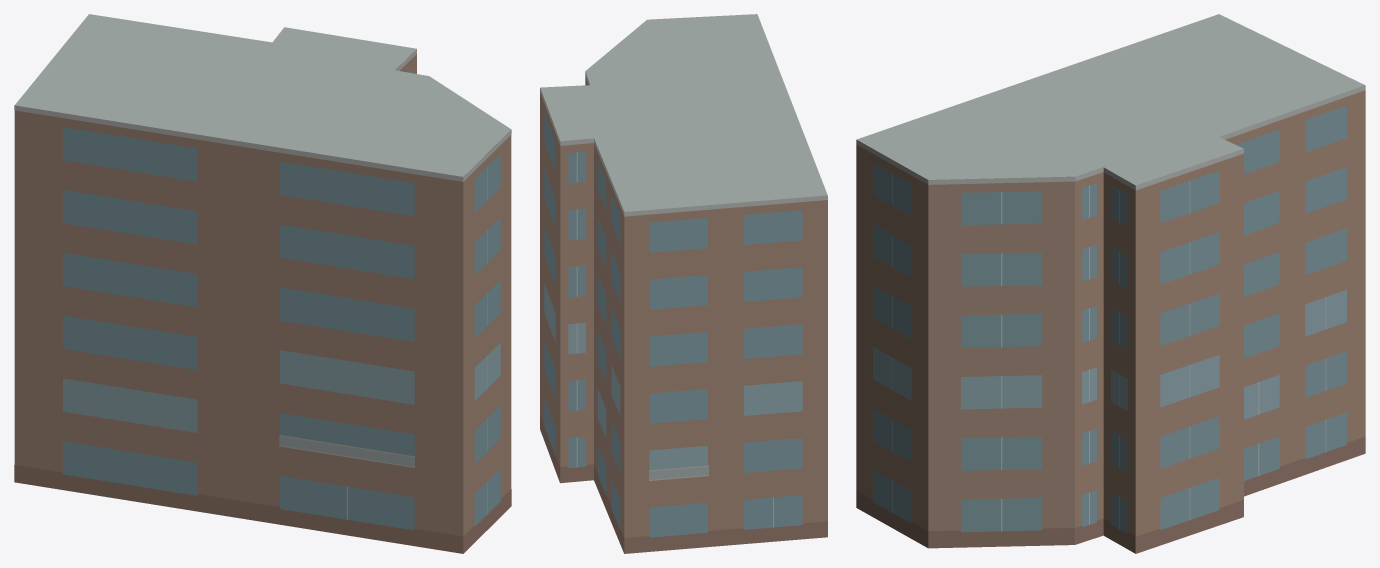
Rendered from survey-upis-32745437.glb.
3 renders of one model, left to right at view 1: azimuth 30°, elevation 25°; view 2: azimuth 150°, elevation 25°; view 3: azimuth 270°, elevation 25°, orthographic. The views are drawn at different scales.
Visible parts, largest first — view 1: survey-upis-32745437.tmp; view 2: survey-upis-32745437.tmp; view 3: survey-upis-32745437.tmp.
Part boxes in pixels (box(x1,y1,x2,y2)): survey-upis-32745437.tmp: box(14, 14, 511, 553); survey-upis-32745437.tmp: box(540, 14, 827, 553); survey-upis-32745437.tmp: box(856, 14, 1365, 553).
Bounding box in the file's own units: 18.29 × 18.3 × 22.93.
